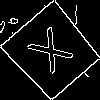X: (26, 26, 82, 82)
